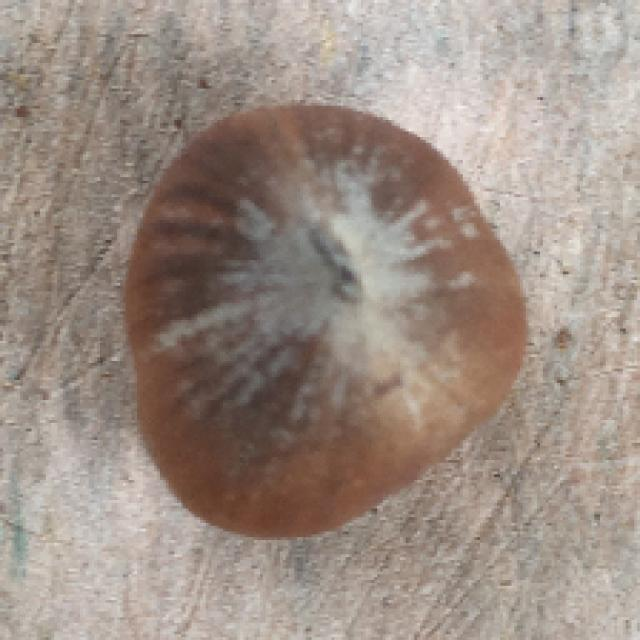qualityHazelnut: (119, 106, 546, 541)
